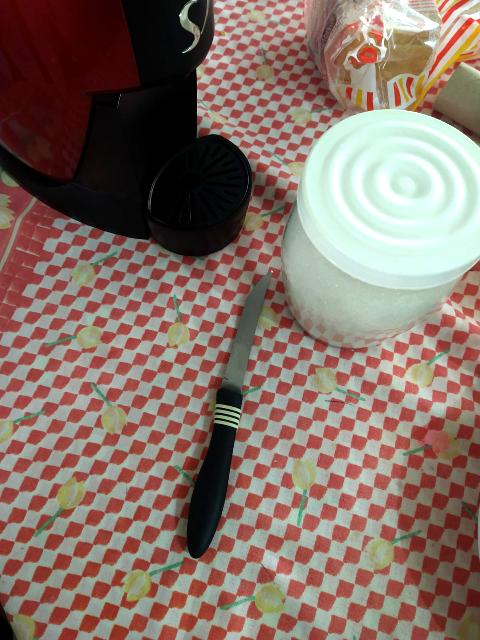pocket-knife: (179, 274, 311, 562)
